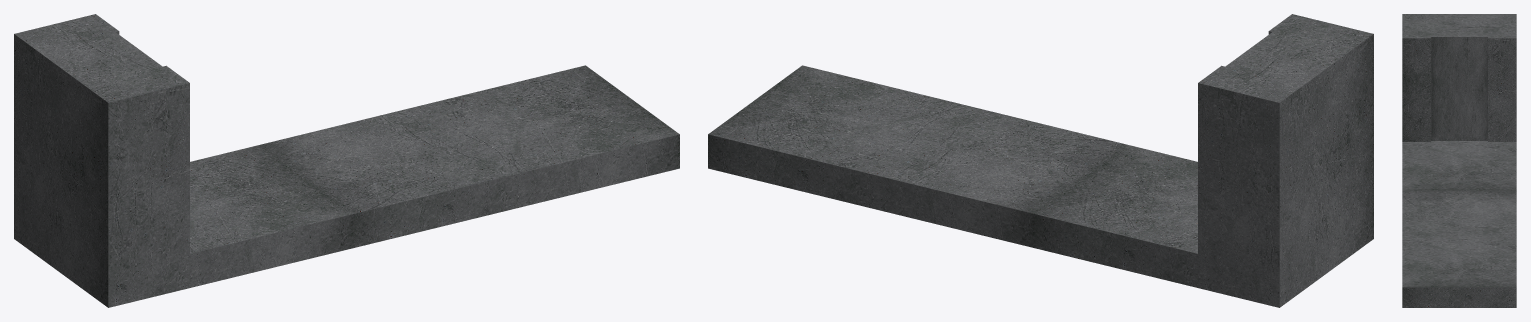
File: TeslaGate_Base.obj
3 renders of one model, left to right at view 1: azimuth 30°, elevation 25°; view 2: azimuth 150°, elevation 25°; view 3: azimuth 270°, elevation 25°, orthographic. The views are drawn at different scales.
Visible parts, largest first — view 1: TeslaGate_Base; view 2: TeslaGate_Base; view 3: TeslaGate_Base.
Part boxes in pixels (x1=…): TeslaGate_Base: x1=14, y1=14, x2=679, y2=307; TeslaGate_Base: x1=708, y1=14, x2=1373, y2=307; TeslaGate_Base: x1=1402, y1=14, x2=1516, y2=307.
Size of the model in its own units: 1.75 by 0.6 by 0.5.
Materials: 2 (2 with a texture image).
